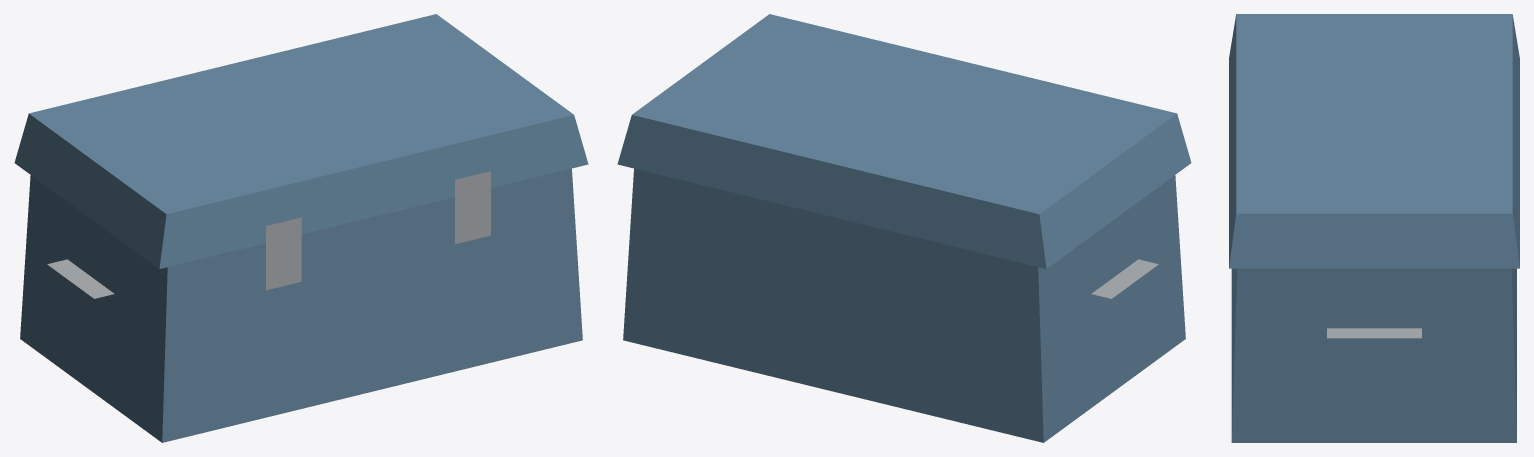
The model's file is camp_cooler_detailed.glb.
The picture shows the model from 3 angles, left to right: view 1: azimuth 30°, elevation 25°; view 2: azimuth 150°, elevation 25°; view 3: azimuth 270°, elevation 25°; orthographic projection.
Parts seen in each view (by area): view 1: DetailedCooler; view 2: DetailedCooler; view 3: DetailedCooler.
Boxes of the visible parts, x1=… form: DetailedCooler: x1=14, y1=14, x2=588, y2=442; DetailedCooler: x1=617, y1=14, x2=1191, y2=442; DetailedCooler: x1=1229, y1=14, x2=1519, y2=442.
Size of the model in its own units: 0.9 by 0.42 by 0.5046.
